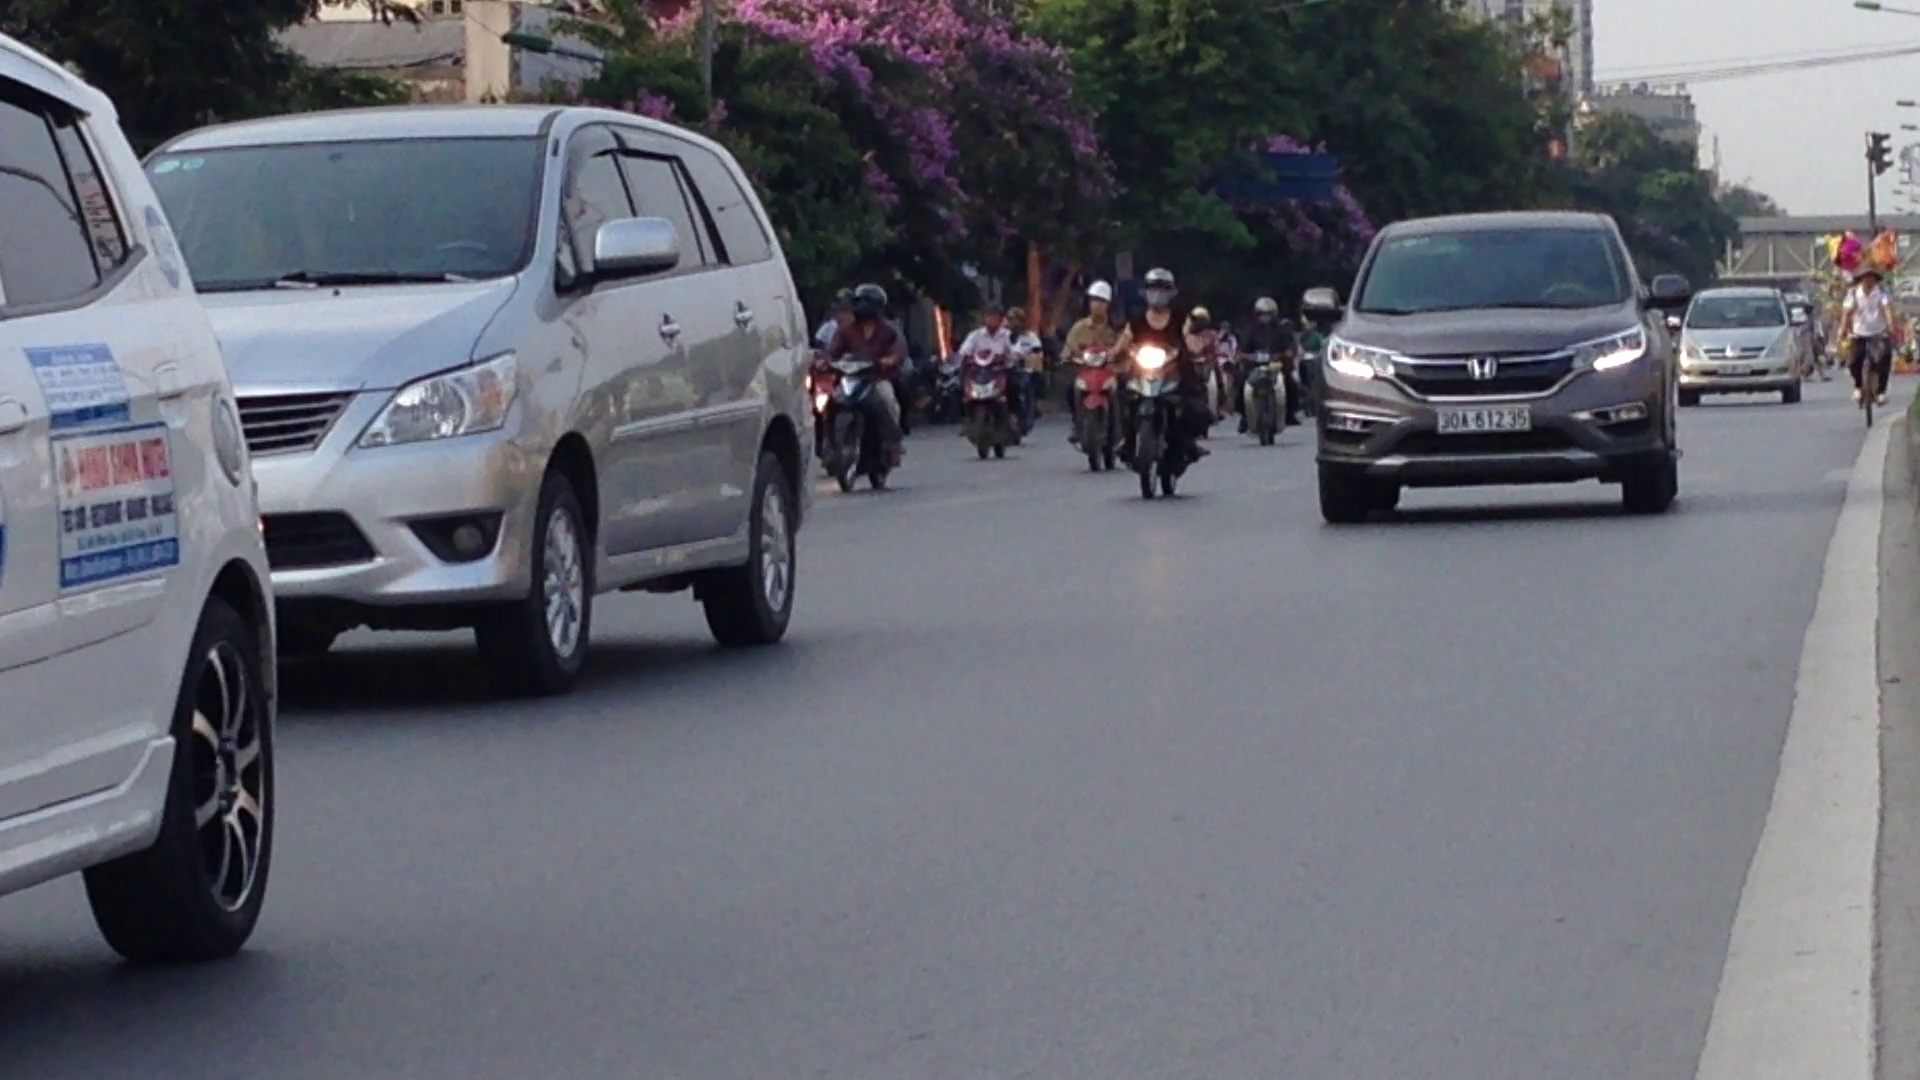person: (1432, 401, 1533, 434)
